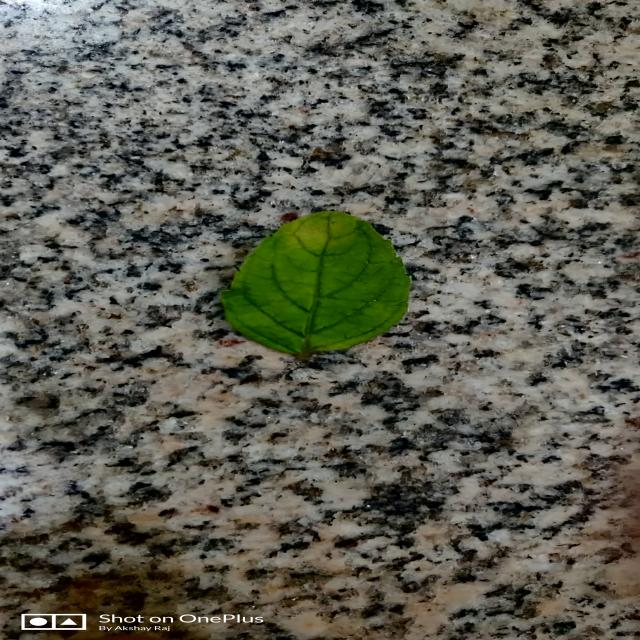defectedtulsi: (241, 211, 402, 275)
tulsi: (222, 211, 410, 359)
